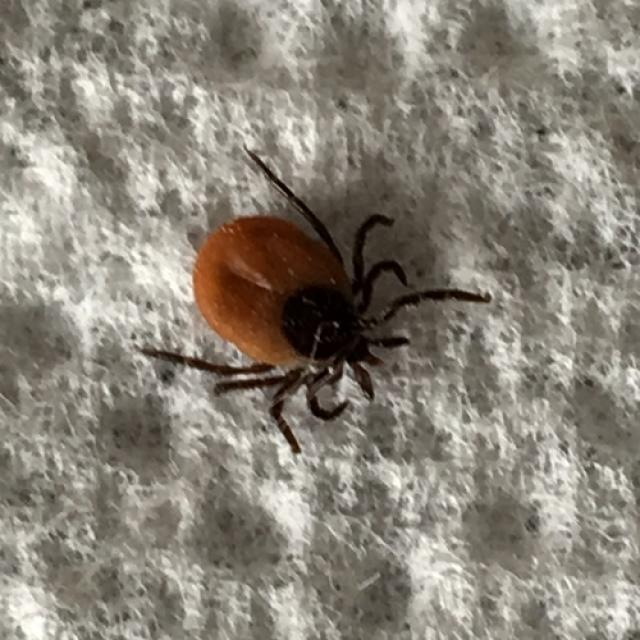Ixodes Ricinus-F-Fed: (138, 150, 490, 456)
